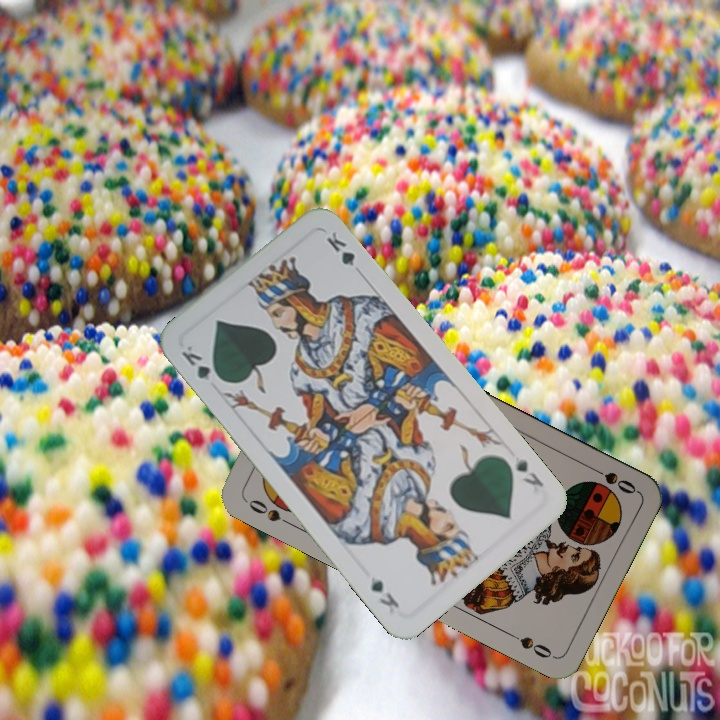GK: (177, 341, 226, 387), (511, 454, 546, 490)
SO: (584, 461, 639, 497), (241, 495, 296, 529)
